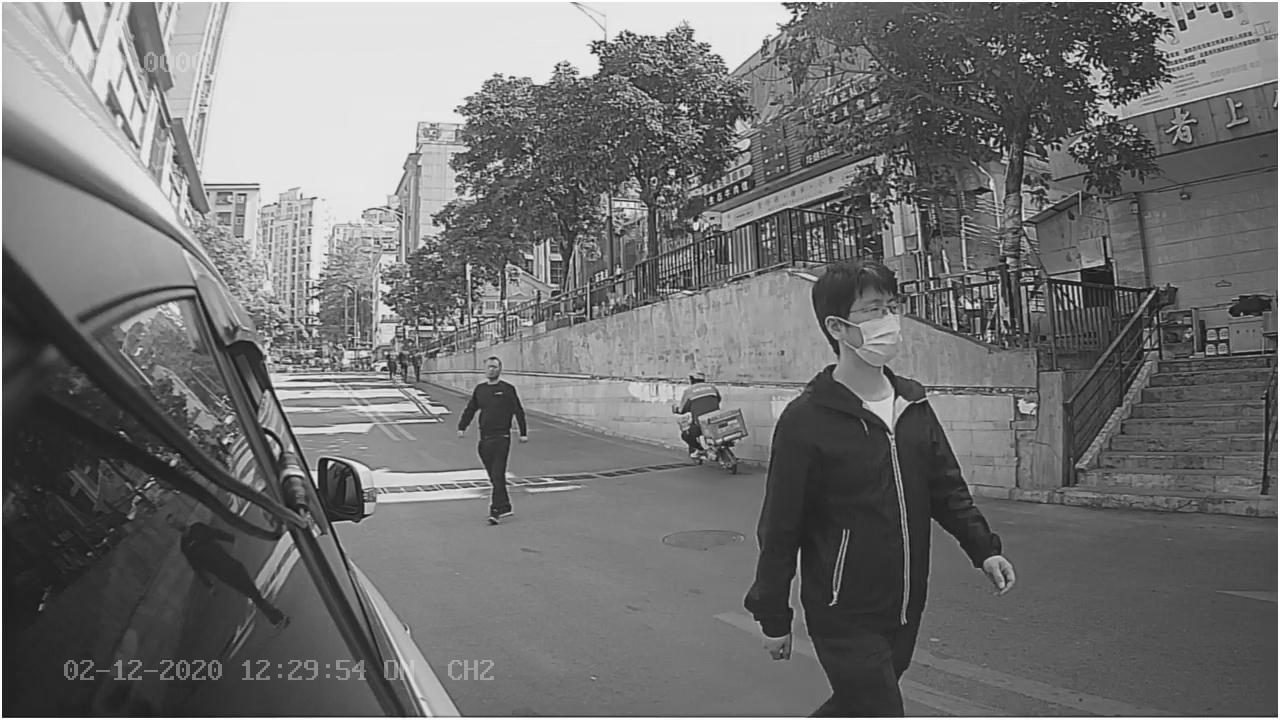person: (734, 245, 1023, 662), (448, 349, 552, 532)
